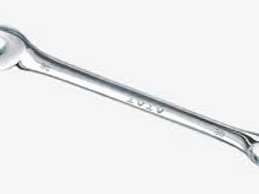Wrench: (1, 19, 259, 163)
